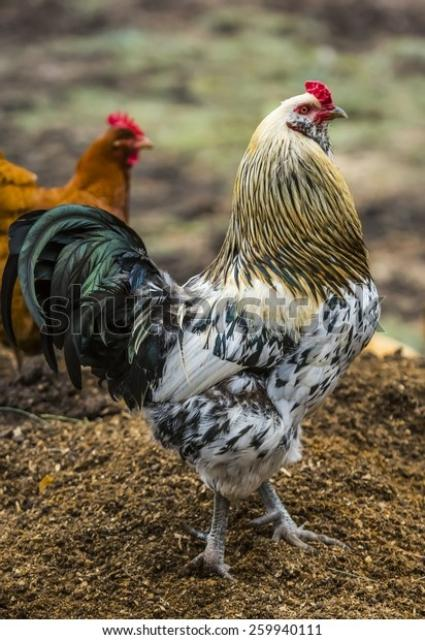Chicken: (3, 79, 382, 585), (0, 110, 155, 367)
